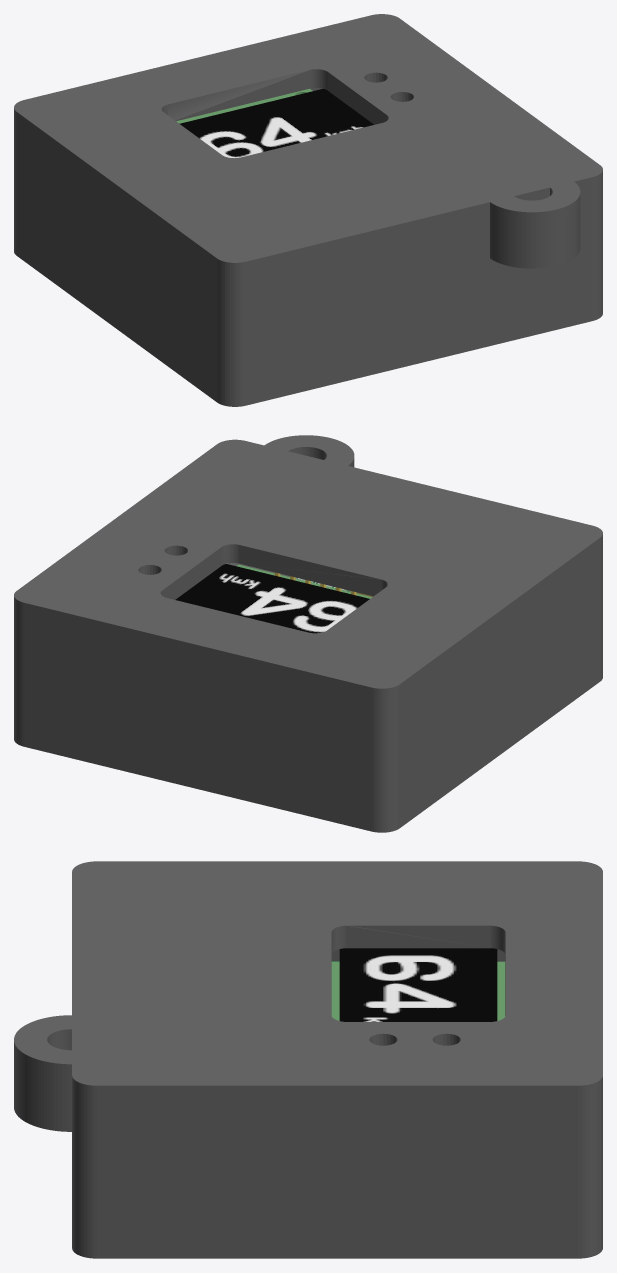
The model's file is sensor-accelerometer.glb.
3 renders of one model, top to bottom at view 1: azimuth 30°, elevation 25°; view 2: azimuth 150°, elevation 25°; view 3: azimuth 270°, elevation 25°, orthographic. The views are drawn at different scales.
Parts seen in each view (by area): view 1: Object_55, Object_36; view 2: Object_55, Object_36; view 3: Object_55, Object_36.
Boxes of the visible parts, box(x1,y1,x2,y2) form: Object_55: box(14, 14, 602, 406); Object_36: box(179, 89, 373, 158); Object_55: box(14, 435, 602, 832); Object_36: box(175, 564, 369, 633); Object_55: box(14, 861, 602, 1258); Object_36: box(339, 948, 497, 1021).
Bounding box in the file's own units: 64 × 23 × 71.
5 materials, 5 textured.
